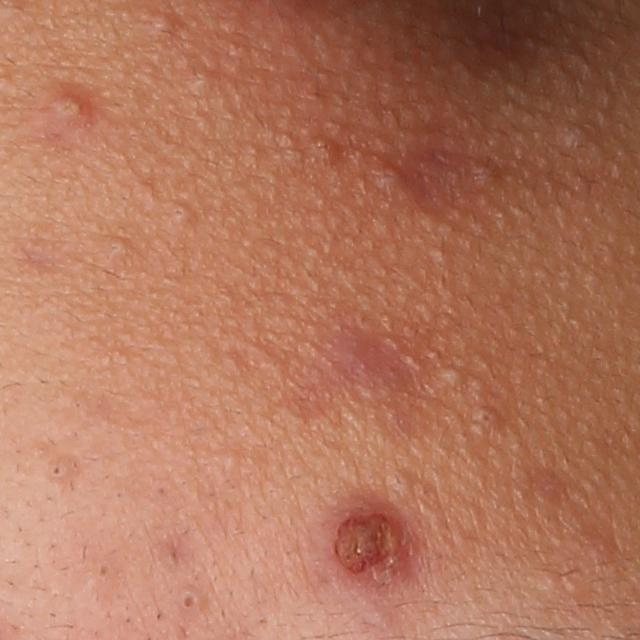comedo: (171, 586, 207, 621), (559, 124, 596, 157), (165, 201, 195, 229), (148, 11, 180, 37), (472, 406, 502, 431), (106, 233, 133, 260), (439, 364, 467, 389), (93, 557, 116, 585), (45, 458, 70, 483), (191, 70, 214, 93)
papule: (325, 502, 412, 587)
pustule: (43, 91, 87, 127)
